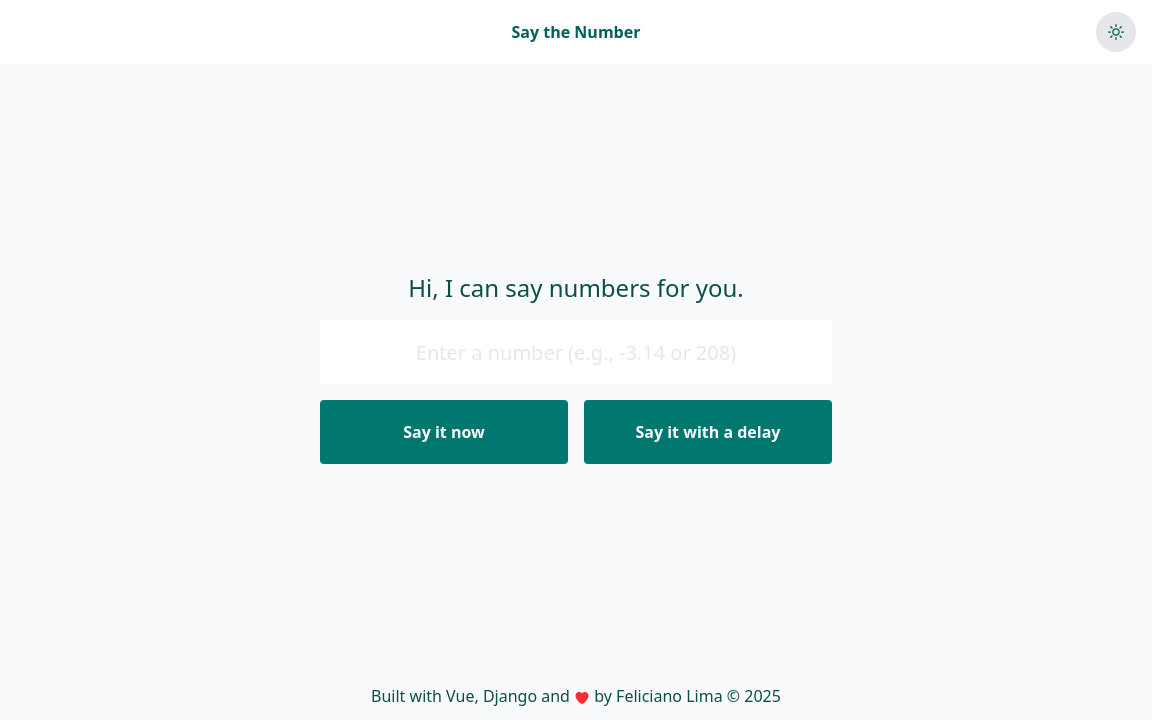
Say The Number Application › should filter non-numeric input
The width and height of the screenshot is (1152, 720).
Type "abc123.45-" into the field with placeholder "Enter a number (e.g., -3.14 or 208)" at (576, 352), box [320,320,832,384]
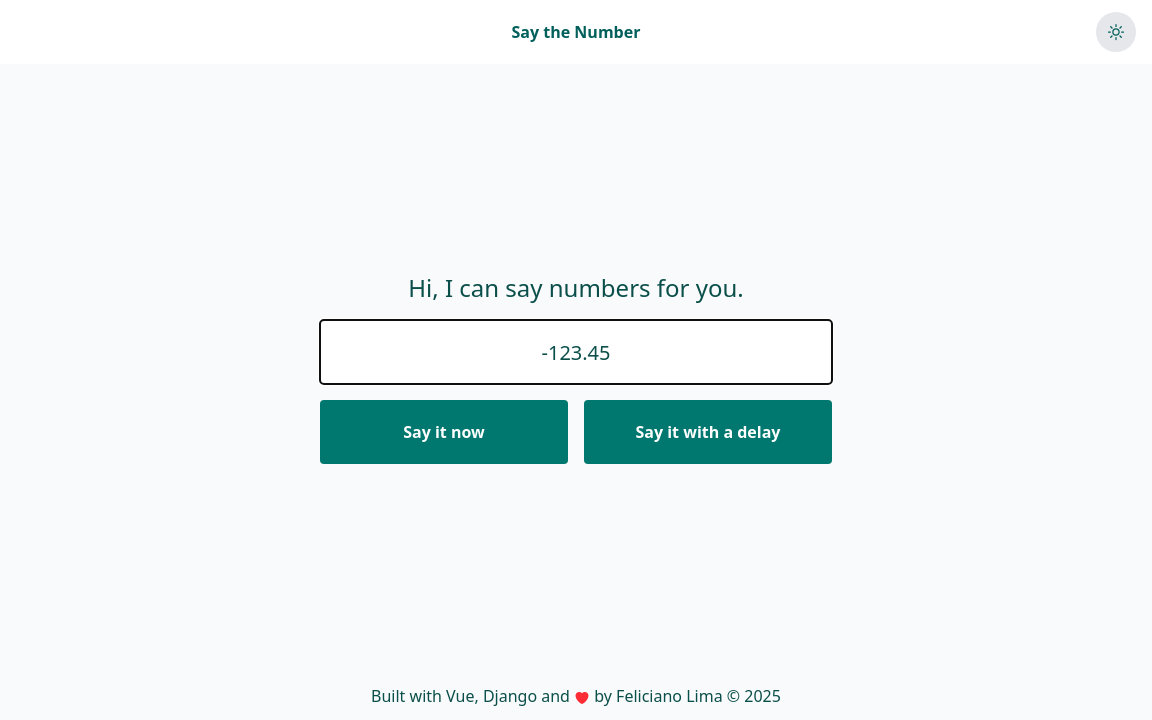
Expected: the field holds "-123.45", [320,320,832,384]
